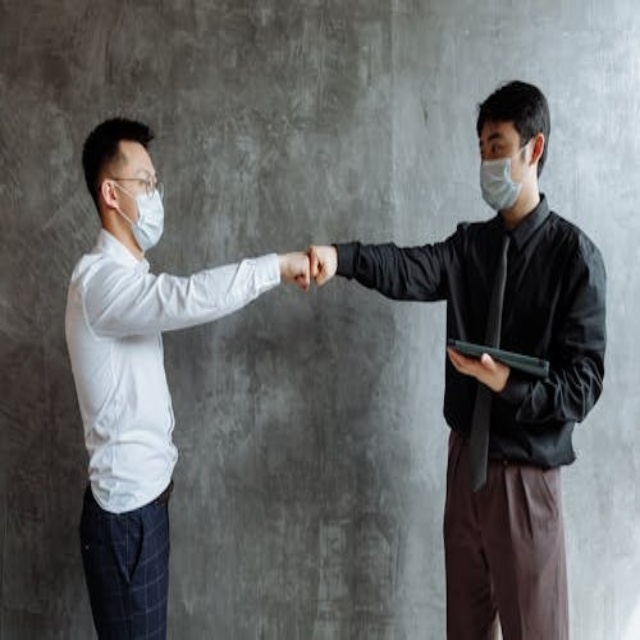Gafas: (107, 175, 163, 199)
Mascara: (113, 181, 165, 252), (479, 141, 531, 210)
Sin_gafas: (474, 129, 511, 161)
Sin_guantes: (446, 347, 505, 392), (274, 238, 308, 288), (304, 244, 339, 287)
